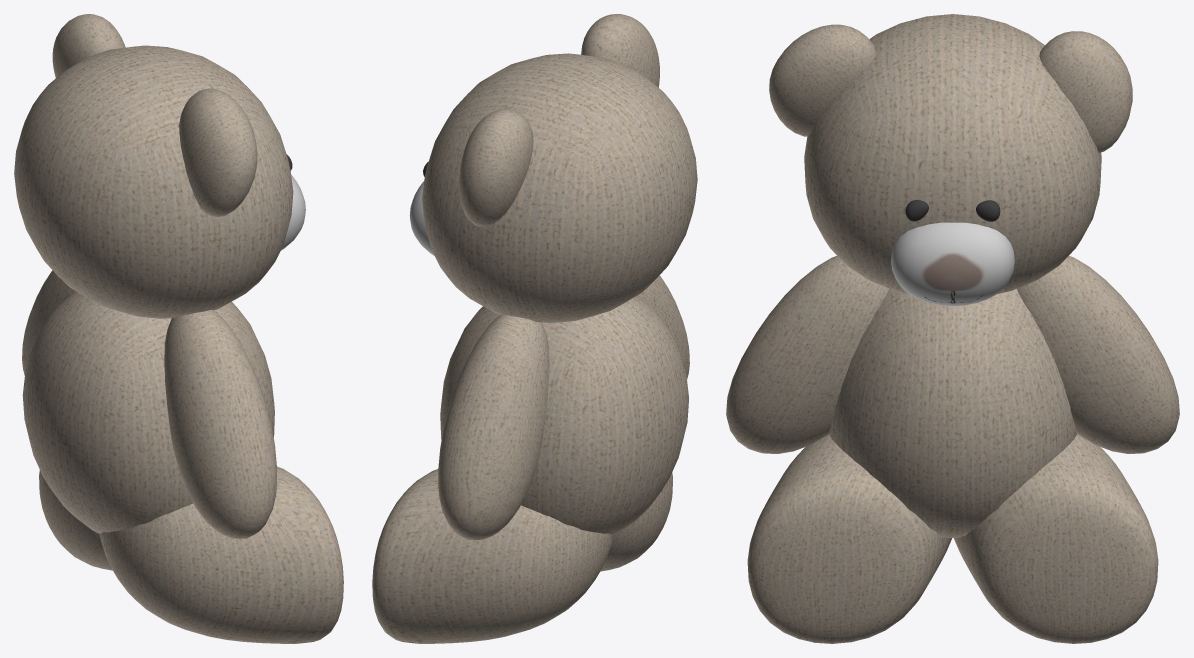
File: camp_teddy_bear.gltf
3 views of the same model, side by side, from view 1: azimuth 30°, elevation 25°; view 2: azimuth 150°, elevation 25°; view 3: azimuth 270°, elevation 25° (orthographic). The views are drawn at different scales.
Visible parts, largest first — view 1: Face_Baked, Body_Baked, Legs_Baked, Hands_Baked, Ear L_Baked, Ear R_Baked, Mouth_Baked; view 2: Face_Baked, Body_Baked, Legs_Baked, Hands_Baked, Ear R_Baked, Ear L_Baked, Mouth_Baked; view 3: Face_Baked, Legs_Baked, Body_Baked, Hands_Baked, Mouth_Baked, Ear L_Baked, Ear R_Baked, Eyes_Baked.
Boxes of the visible parts, x1,y1,x2,y2 form: Face_Baked: (14, 45, 293, 318); Body_Baked: (22, 291, 274, 533); Legs_Baked: (39, 466, 343, 643); Hands_Baked: (22, 270, 276, 538); Ear L_Baked: (179, 88, 257, 216); Ear R_Baked: (52, 14, 125, 77); Mouth_Baked: (281, 175, 305, 250); Face_Baked: (422, 53, 697, 322); Body_Baked: (440, 296, 688, 535); Legs_Baked: (372, 469, 672, 643); Hands_Baked: (438, 275, 689, 539); Ear R_Baked: (459, 109, 533, 226); Ear L_Baked: (581, 14, 659, 87); Mouth_Baked: (409, 181, 434, 255); Face_Baked: (804, 14, 1101, 293); Legs_Baked: (747, 434, 1158, 643); Body_Baked: (828, 289, 1077, 537); Hands_Baked: (726, 256, 1179, 453); Mouth_Baked: (891, 222, 1014, 306); Ear L_Baked: (769, 24, 876, 136); Ear R_Baked: (1039, 31, 1132, 152); Eyes_Baked: (905, 200, 1000, 221).
Bounding box in the file's own units: 0.5134 × 1.07 × 0.7593.
Materials: 8 (8 with a texture image).
